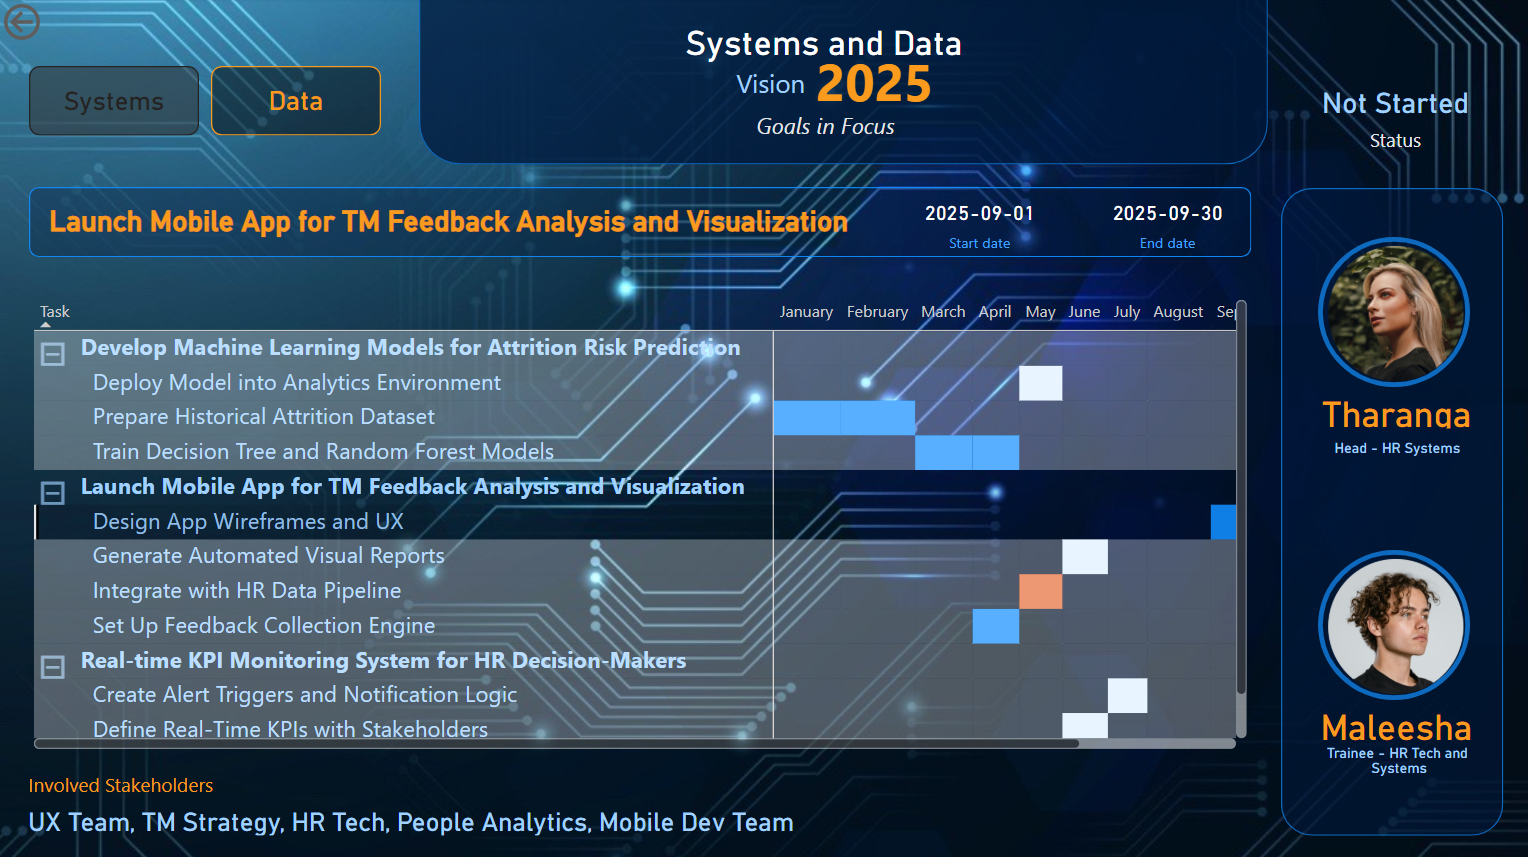

The dashboard page shown, as its layout file describes it:
{"tool":"powerbi","page":{"name":"Data","canvas":[1280,720],"ordinal":1},"visuals":[{"type":"shape","box":[1071.4,158.4,185.8,541.4],"z":0},{"type":"shape","box":[1102.6,199.7,127.5,125.8],"z":250,"group":"g2"},{"type":"shape","box":[1102.6,461.6,127.5,125.8],"z":250,"group":"g1"},{"type":"cardVisual","fields":{"Data":["ProfilePictures.ShowImageForFirstAssignee"]},"box":[1094.7,191.9,149.8,147.8],"z":500,"group":"g2"},{"type":"cardVisual","fields":{"Data":["ProfilePictures.ShowImageForSecondAssignee"]},"box":[1094.7,453.8,149.8,147.8],"z":500,"group":"g1"},{"type":"shape","box":[26,157.8,1021.5,58.6],"z":1000},{"type":"cardVisual","fields":{"Data":["Min(Tasks.Involved Stakeholders)"]},"box":[13.3,626.7,981.7,93.3],"z":2000},{"type":"card","fields":{"Values":["Min(Task_SubTask.Start date)"]},"box":[760.3,155.4,120,65],"z":3000},{"type":"card","fields":{"Values":["Min(Task_SubTask.End date)"]},"box":[905.3,155.4,143.3,65],"z":4000},{"type":"cardVisual","fields":{"Data":["Min(Task_SubTask.Task)"]},"box":[26.1,147.8,733.3,66.7],"z":5000},{"type":"group","id":"g1","title":"Group 2","box":[1094.7,453.8,149.6,213.1],"z":6000},{"type":"actionButton","box":[0,0,100,40],"z":7000},{"type":"card","fields":{"Values":["DaxTable.SelectFirstAssignee"]},"box":[1097.1,326.7,141.4,37.8],"z":7000,"group":"g2"},{"type":"card","fields":{"Values":["DaxTable.SelectSecondAssignee"]},"box":[1097.1,588.6,141.4,37.8],"z":7000,"group":"g1"},{"type":"textbox","box":[454.3,15.8,471.1,43.4],"z":8000,"group":"g3"},{"type":"card","fields":{"Values":["Min(Task_SubTask.Status)"]},"box":[1077.1,58.6,180,77.1],"z":8000},{"type":"pivotTable","fields":{"Values":["DaxTable.CF Gantt"],"Rows":["Task_SubTask.Task","Task_SubTask.Sub Task"],"Columns":["dimDate.Date.Variation.Date Hierarchy.Month","dimDate.Date.Variation.Date Hierarchy.Day"]},"box":[25,247,1023.1,385],"z":9000},{"type":"textbox","box":[678.1,34.7,120.6,71.8],"z":10000,"group":"g3"},{"type":"group","id":"g2","title":"Group 3","box":[1094.7,191.9,149.6,211.5],"z":10000},{"type":"shape","box":[351.6,0,709.1,139.5],"z":11000},{"type":"textbox","box":[517.2,88.3,348.5,37.4],"z":11000,"group":"g3"},{"type":"card","fields":{"Values":["DaxTable.SelectFirstGrade"]},"box":[1098.3,350.4,141.4,53.2],"z":11000,"group":"g2"},{"type":"card","fields":{"Values":["DaxTable.SelectSecondGrade"]},"box":[1098.3,612.3,141.4,53.2],"z":11000,"group":"g1"},{"type":"group","id":"g3","title":"Group 4","box":[454.3,15.8,471.1,110],"z":12000},{"type":"pageNavigator","box":[25.9,56.8,294,58.5],"z":13000},{"type":"textbox","box":[602.2,50.8,76.5,39.7],"z":14000,"group":"g3"}]}

Visuals, with their boxes in screenshot pixels (x1, y1, x2, y2), scaled from the page's 1280x720 canvas onto the 1528x857 screenshot:
shape: bbox=(1279, 189, 1501, 833)
shape: bbox=(1316, 238, 1468, 387)
shape: bbox=(1316, 549, 1468, 699)
cardVisual - ProfilePictures.ShowImageForFirstAssignee: bbox=(1307, 228, 1486, 404)
cardVisual - ProfilePictures.ShowImageForSecondAssignee: bbox=(1307, 540, 1486, 716)
shape: bbox=(31, 188, 1250, 258)
cardVisual - Min(Tasks.Involved Stakeholders): bbox=(16, 746, 1188, 856)
card - Min(Task_SubTask.Start date): bbox=(908, 185, 1051, 262)
card - Min(Task_SubTask.End date): bbox=(1081, 185, 1252, 262)
cardVisual - Min(Task_SubTask.Task): bbox=(31, 176, 907, 255)
"Group 2" group: bbox=(1307, 540, 1485, 794)
actionButton: bbox=(0, 0, 119, 48)
card - DaxTable.SelectFirstAssignee: bbox=(1310, 389, 1478, 434)
card - DaxTable.SelectSecondAssignee: bbox=(1310, 701, 1478, 746)
textbox: bbox=(542, 19, 1105, 70)
card - Min(Task_SubTask.Status): bbox=(1286, 70, 1501, 162)
pivotTable - DaxTable.CF Gantt x Task_SubTask.Task: bbox=(30, 294, 1251, 752)
textbox: bbox=(809, 41, 953, 127)
"Group 3" group: bbox=(1307, 228, 1485, 480)
shape: bbox=(420, 0, 1266, 166)
textbox: bbox=(617, 105, 1033, 150)
card - DaxTable.SelectFirstGrade: bbox=(1311, 417, 1480, 480)
card - DaxTable.SelectSecondGrade: bbox=(1311, 729, 1480, 792)
"Group 4" group: bbox=(542, 19, 1105, 150)
pageNavigator: bbox=(31, 68, 382, 137)
textbox: bbox=(719, 60, 810, 108)
